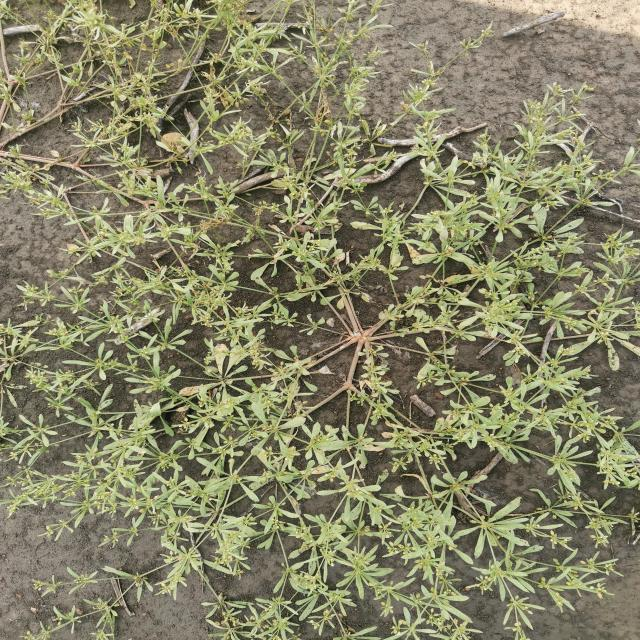Carpetweed: (3, 0, 636, 637)
